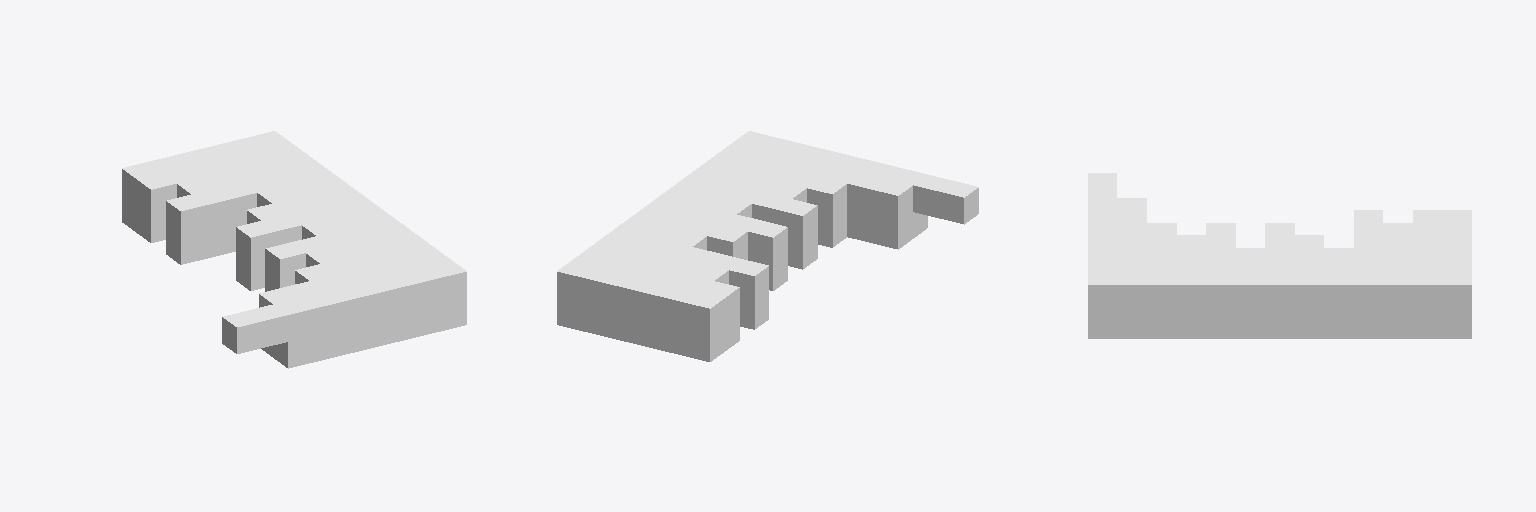
The model's file is BirdEnemy-12.obj.
3 views of the same model, side by side, from view 1: azimuth 30°, elevation 25°; view 2: azimuth 150°, elevation 25°; view 3: azimuth 270°, elevation 25° (orthographic).
Parts seen in each view (by area): view 1: object 1; view 2: object 1; view 3: object 1.
Part boxes in pixels (x1,y1,x2,y2): object 1: (122, 131, 466, 368); object 1: (557, 131, 978, 361); object 1: (1088, 173, 1471, 338).
Bounding box in the file's own units: 0.9 × 0.2 × 1.3.